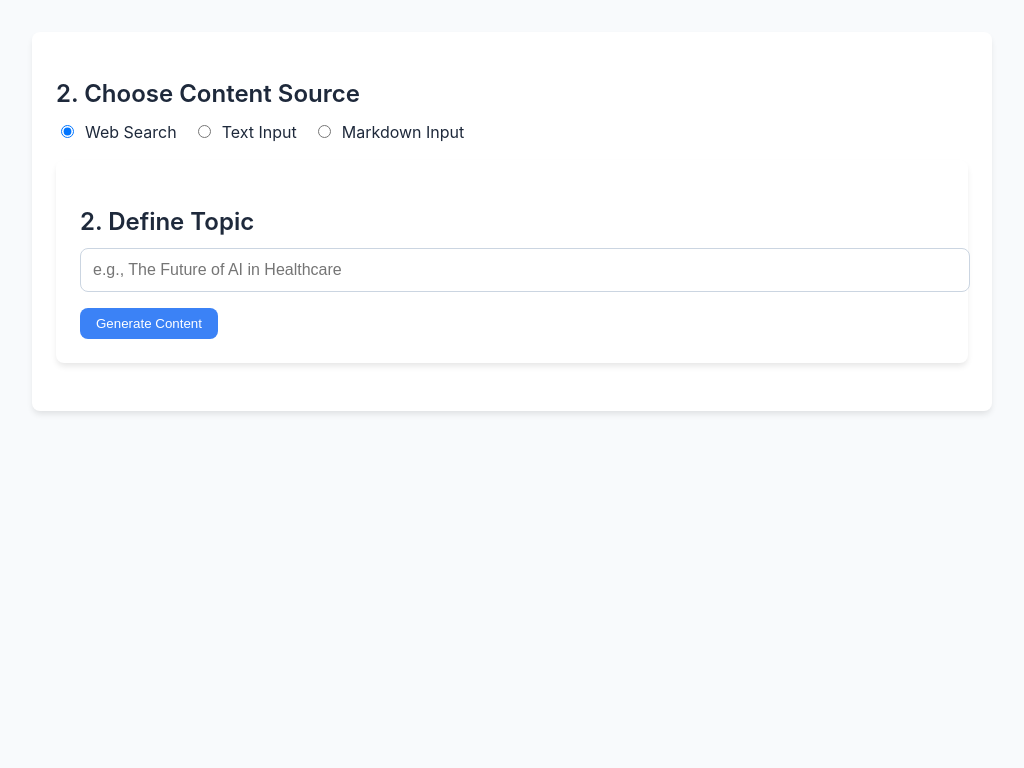
Test: ContentInput - Error Display › Structured Syntax Error Display › displays structured error for MARKDOWN_SYNTAX_ERROR
This screenshot has width=1024, height=768.
Click the radio button labelled "Markdown Input" at [324, 131], box [318,125,331,138]
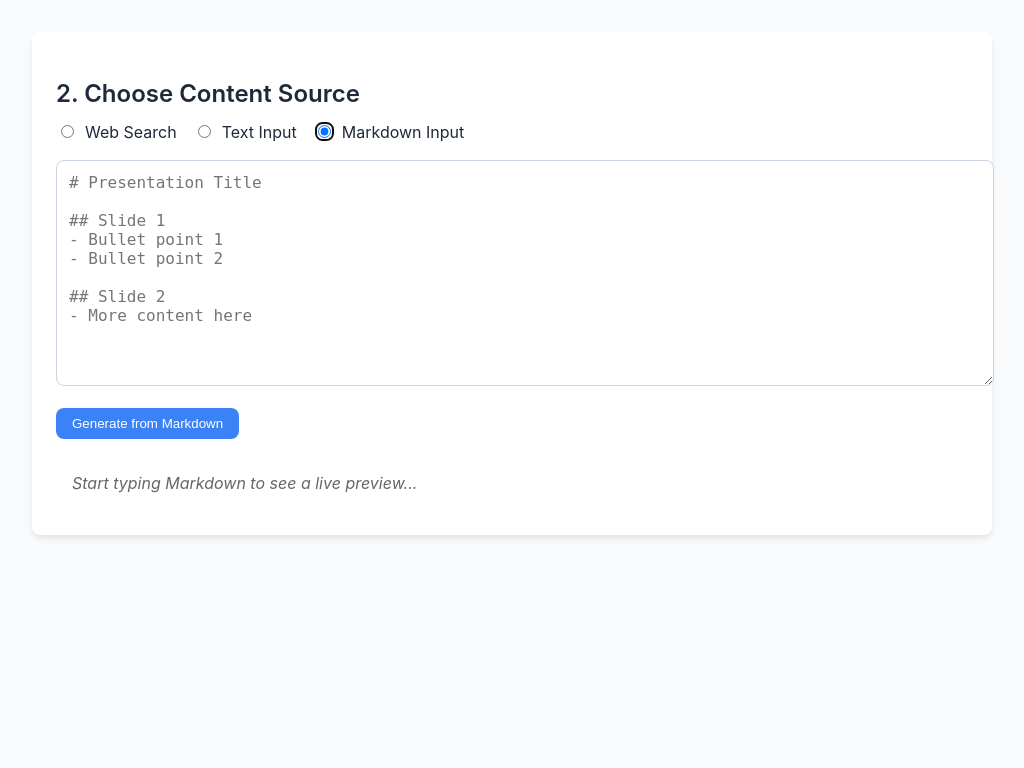
Type "# Just a title" into the text box with placeholder "# Presentation Title" at [525, 273], box [56,160,994,386]
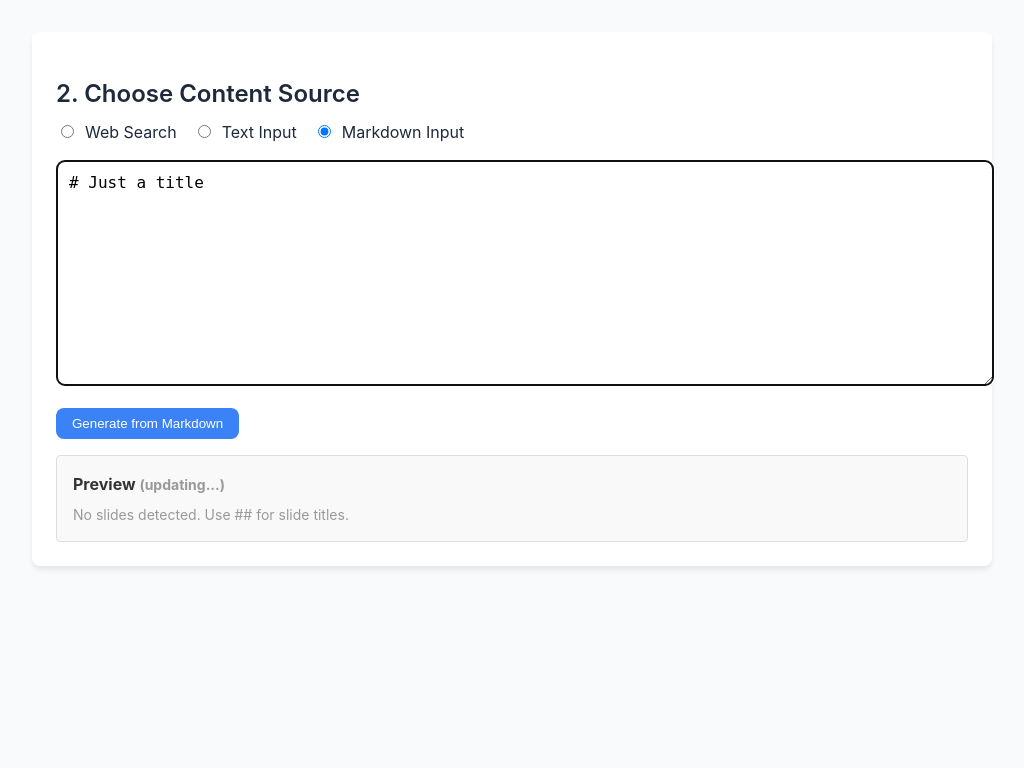
Click the button "Generate from Markdown" at [148, 423], box [56,408,239,439]
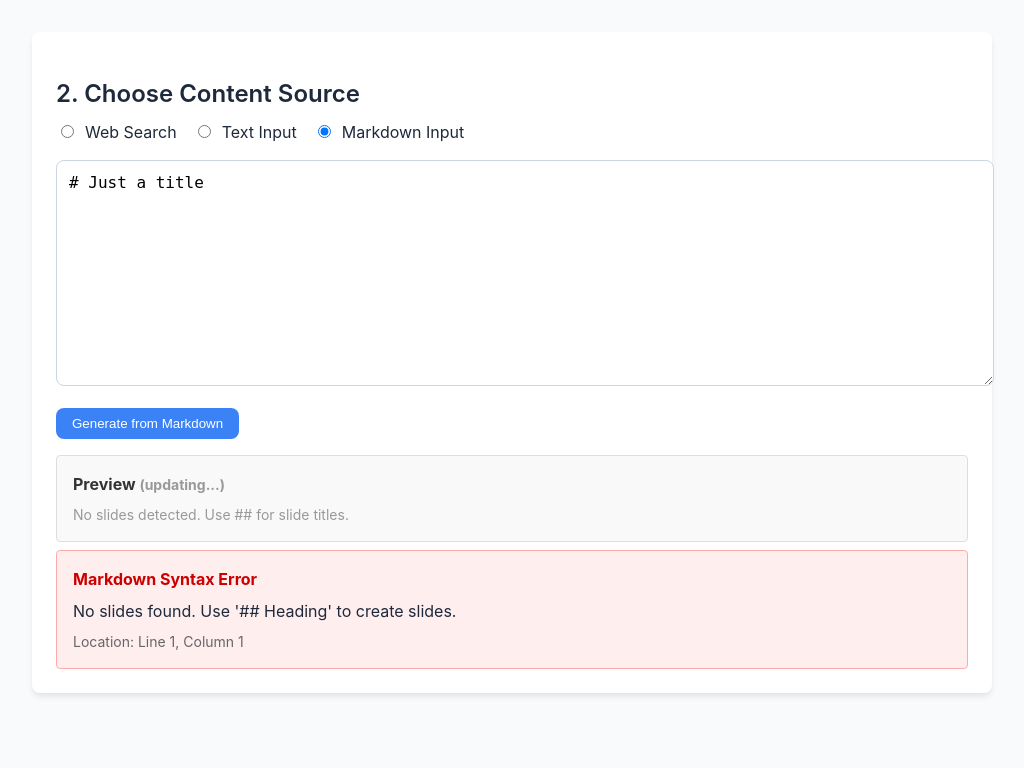
Expected: the text "Markdown Syntax Error" is shown, [73,569,257,589]
Expected: the text "No slides found. Use '## Heading' to create slides." is shown, [73,601,456,621]
Expected: the text "Location: Line 1, Column 1" is shown, [73,633,244,650]
